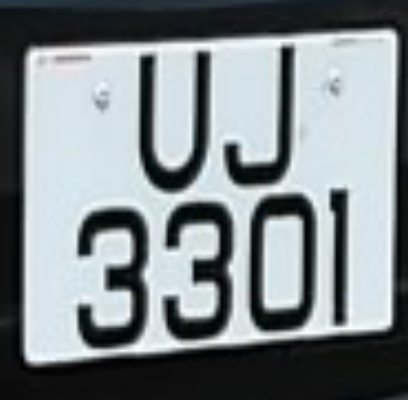0: (234, 187, 328, 332)
1: (316, 179, 364, 335)
3: (64, 193, 157, 354), (154, 195, 241, 345)
J: (214, 36, 299, 191)
U: (131, 48, 217, 200)
